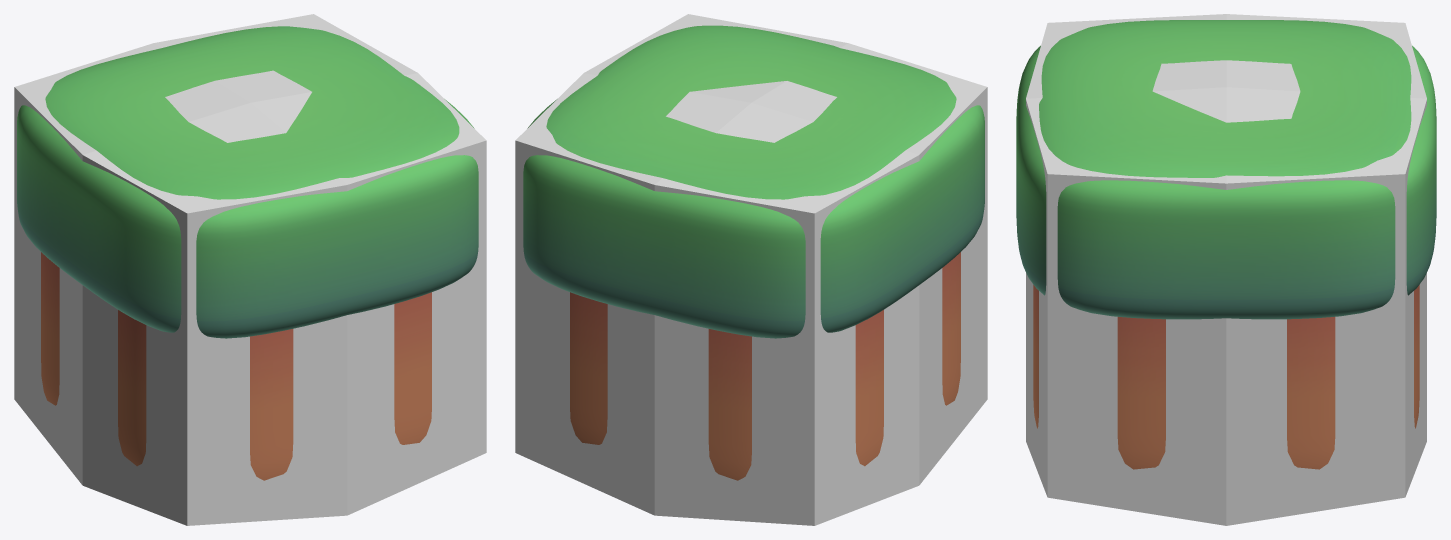
The model's file is PlatformSmallLow.glb.
3 views of the same model, side by side, from view 1: azimuth 30°, elevation 25°; view 2: azimuth 150°, elevation 25°; view 3: azimuth 270°, elevation 25° (orthographic). The views are drawn at different scales.
Parts seen in each view (by area): view 1: PlatformSmallLow, colision-colonly.003; view 2: PlatformSmallLow, colision-colonly.003; view 3: PlatformSmallLow, colision-colonly.003.
Part boxes in pixels (x1,y1,x2,y2): PlatformSmallLow: [17, 26, 478, 480]; colision-colonly.003: [14, 14, 486, 525]; PlatformSmallLow: [523, 25, 984, 480]; colision-colonly.003: [515, 14, 987, 525]; PlatformSmallLow: [1016, 20, 1436, 469]; colision-colonly.003: [1026, 14, 1426, 525].
Size of the model in its own units: 2 by 1.86 by 2.
1 material, 1 textured.
